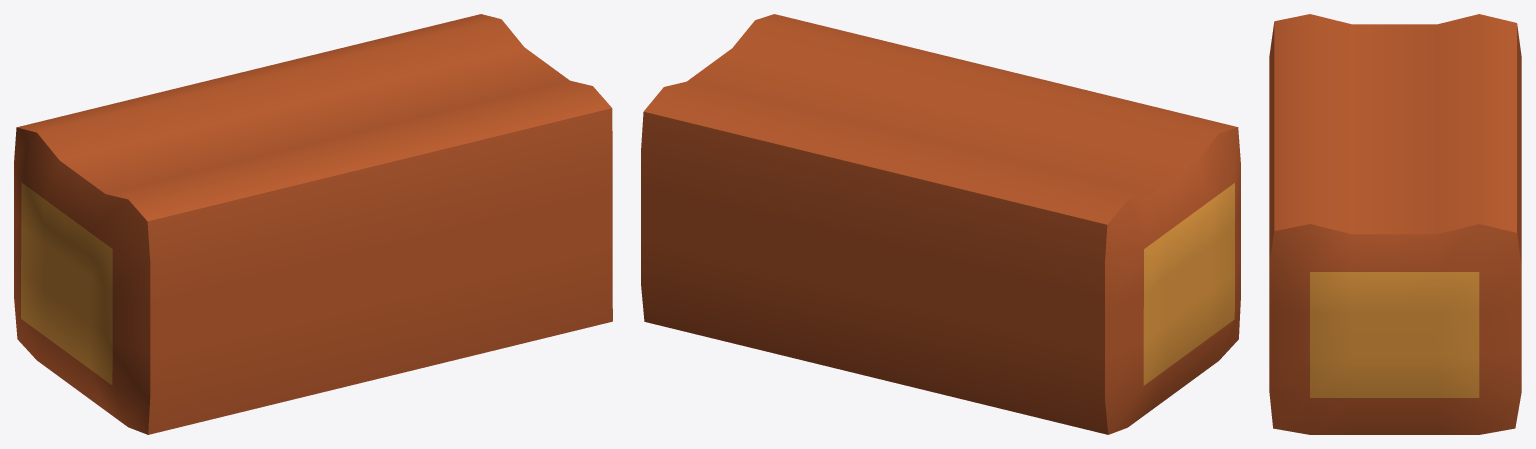
File: Bred.fbx
3 views of the same model, side by side, from view 1: azimuth 30°, elevation 25°; view 2: azimuth 150°, elevation 25°; view 3: azimuth 270°, elevation 25° (orthographic). The views are drawn at different scales.
Visible parts, largest first — view 1: Box002; view 2: Box002; view 3: Box002.
Boxes of the visible parts, bbox=[...] form: Box002: bbox=[14, 14, 612, 434]; Box002: bbox=[641, 14, 1240, 434]; Box002: bbox=[1269, 14, 1521, 434].
Bounding box in the file's own units: 80.71 × 35.64 × 38.6.
